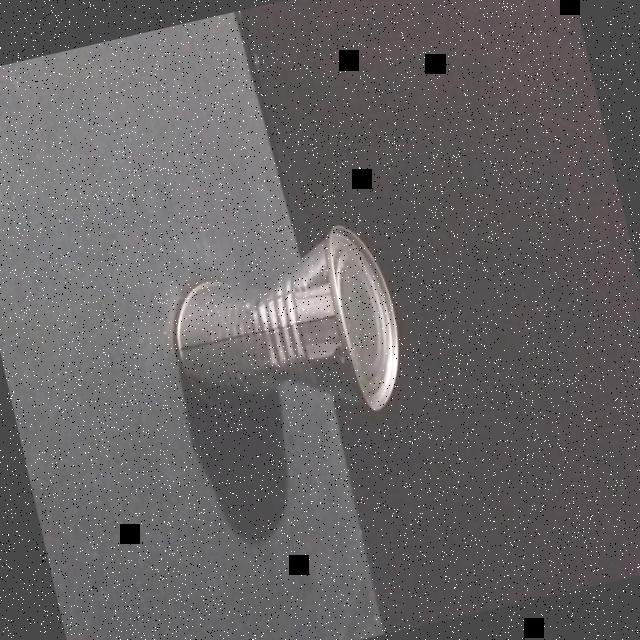can: (152, 213, 420, 459)
